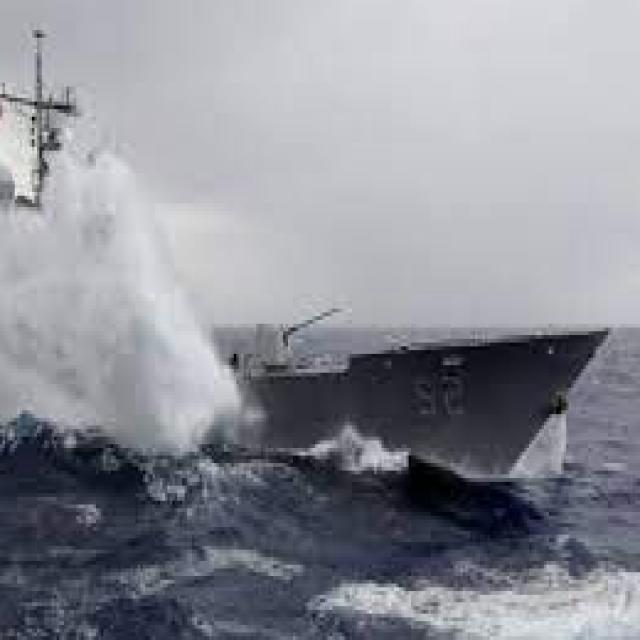navalvessels: (0, 83, 608, 519)
